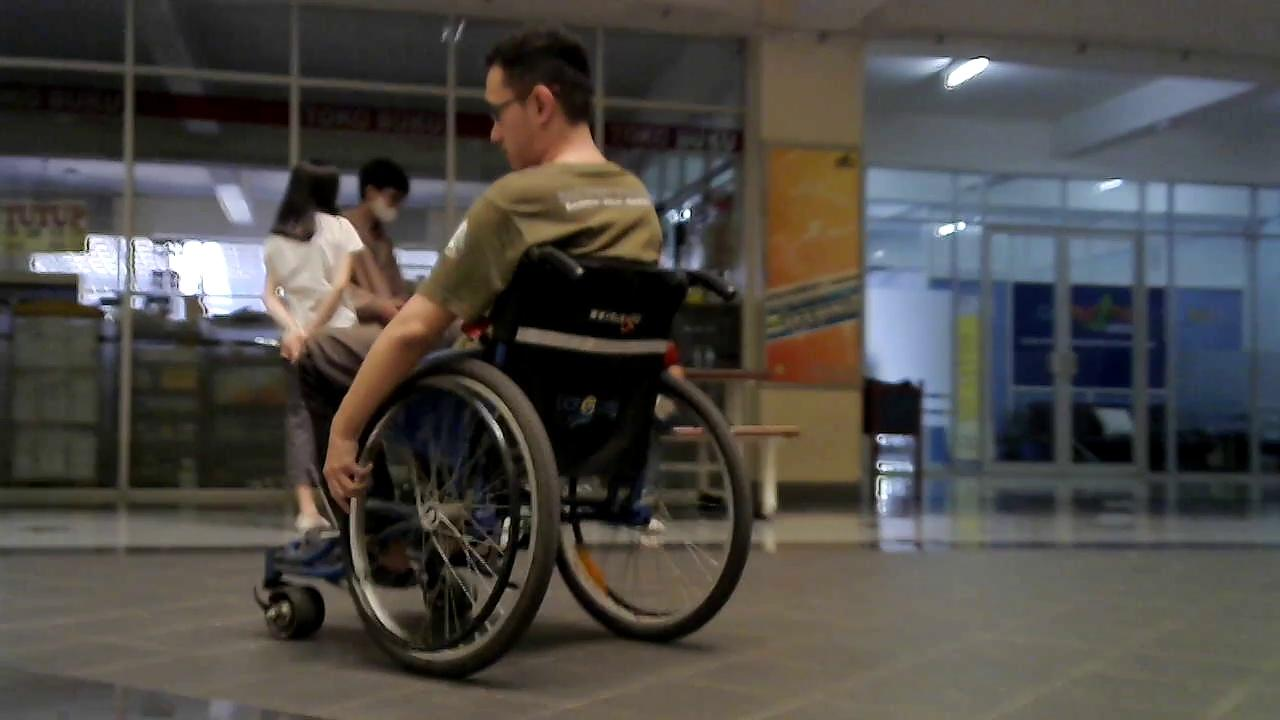person: (310, 26, 665, 526), (261, 163, 374, 565)
wheelchair: (234, 226, 764, 681)
